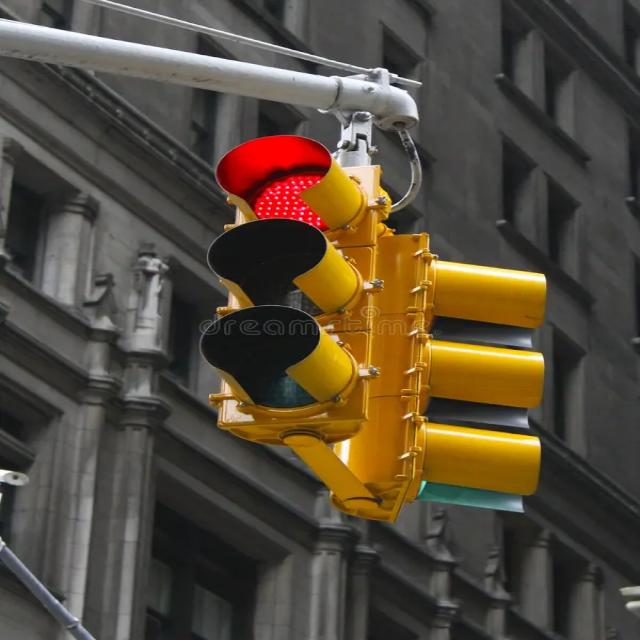green: (403, 418, 512, 508)
red: (228, 149, 359, 231)
